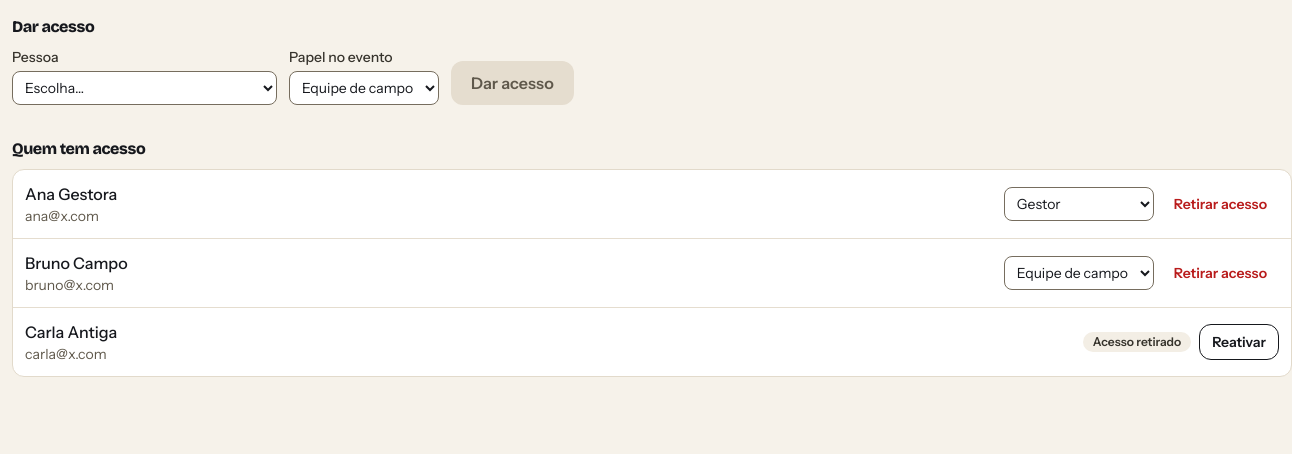
Scenario: EventAccessManager › mostra a mensagem do servidor quando a regra recusa (ex.: último gestor) e NÃO atualiza a página
What coordinates should you click on to do the following:
click the button with aria-label "Retirar o acesso de Ana Gestora"
I would click on:
 (1220, 204)
Its box is [1162,186,1279,222].
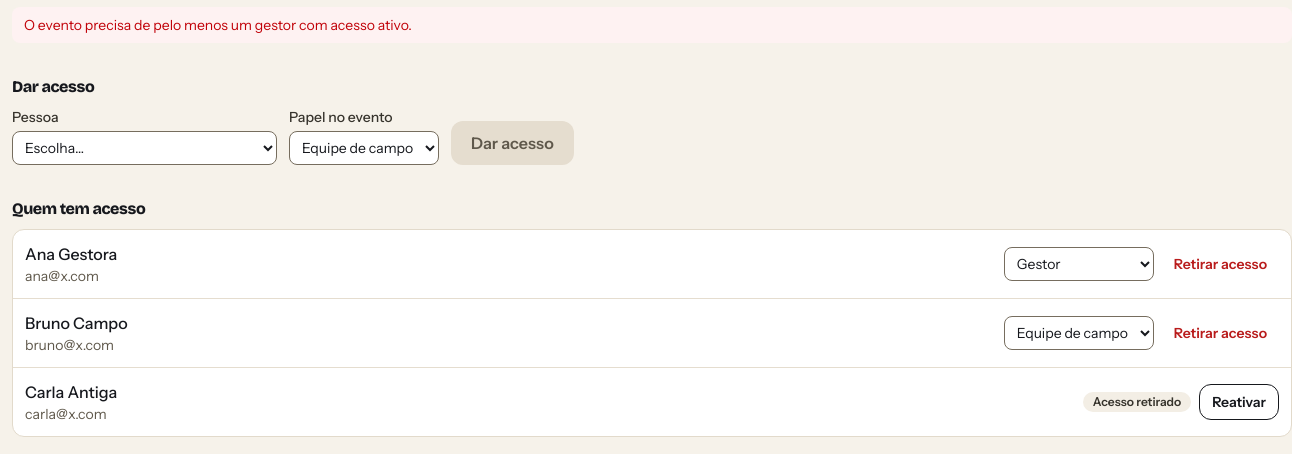
Result: the message shows "pelo menos um gestor" at [24,16,412,34]
